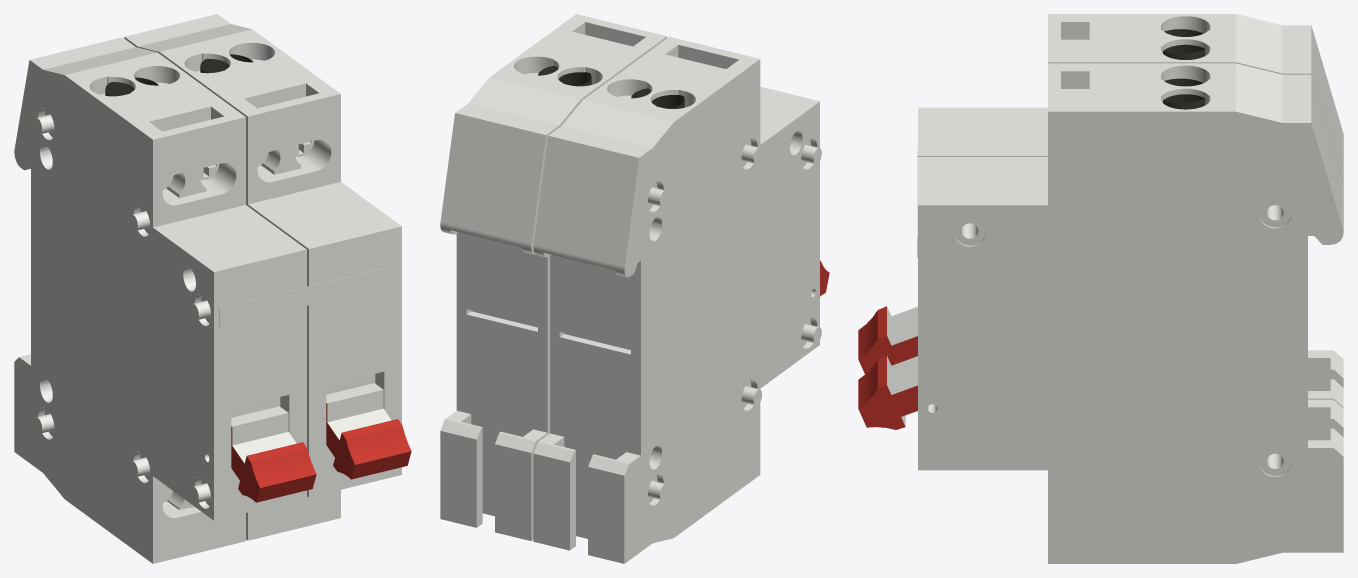
Rendered from schneider-ez9s-2p.glb.
3 renders of one model, left to right at view 1: azimuth 30°, elevation 25°; view 2: azimuth 150°, elevation 25°; view 3: azimuth 270°, elevation 25°, orthographic. The views are drawn at different scales.
Visible parts, largest first — view 1: ez9s_body_1, ez9s_body_2, dcsimu_handle_1, dcsimu_handle_2, ez9s_pos_on, ez9s_lever_1, ez9s_lever_2; view 2: ez9s_body_1, ez9s_body_2, cavity_3, cavity_1; view 3: ez9s_body_2, ez9s_body_1, dcsimu_handle_2, dcsimu_handle_1, ez9s_lever_2, ez9s_lever_1, cavity_3, cavity_1.
Boxes of the visible parts, <box> form: ez9s_body_1: <box>14,37,306,563</box>; ez9s_body_2: <box>124,14,401,540</box>; dcsimu_handle_1: <box>231,426,316,502</box>; dcsimu_handle_2: <box>326,403,411,479</box>; ez9s_pos_on: <box>219,267,388,326</box>; ez9s_lever_1: <box>205,395,296,469</box>; ez9s_lever_2: <box>326,371,391,446</box>; ez9s_body_1: <box>533,37,821,563</box>; ez9s_body_2: <box>440,14,667,541</box>; cavity_3: <box>538,65,591,86</box>; cavity_1: <box>631,88,684,108</box>; ez9s_body_2: <box>918,63,1343,563</box>; ez9s_body_1: <box>918,14,1343,407</box>; dcsimu_handle_2: <box>858,356,917,429</box>; dcsimu_handle_1: <box>858,306,917,374</box>; ez9s_lever_2: <box>887,356,937,426</box>; ez9s_lever_1: <box>887,306,917,345</box>; cavity_3: <box>1163,78,1204,109</box>; cavity_1: <box>1163,29,1204,59</box>.
Bounding box in the file's own units: 0.0372 × 0.0768 × 0.0747.
